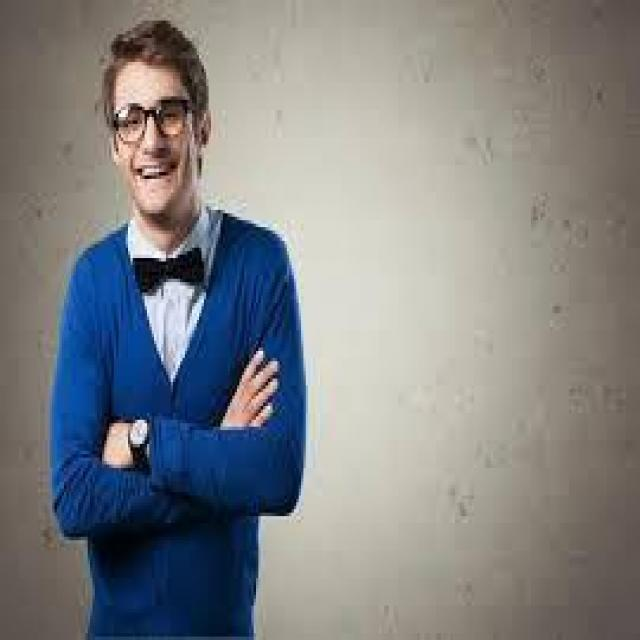person: (17, 21, 327, 636)
